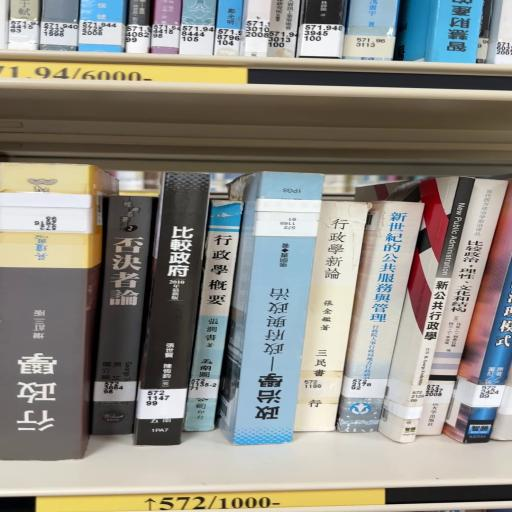reverse: (218, 173, 324, 446)
